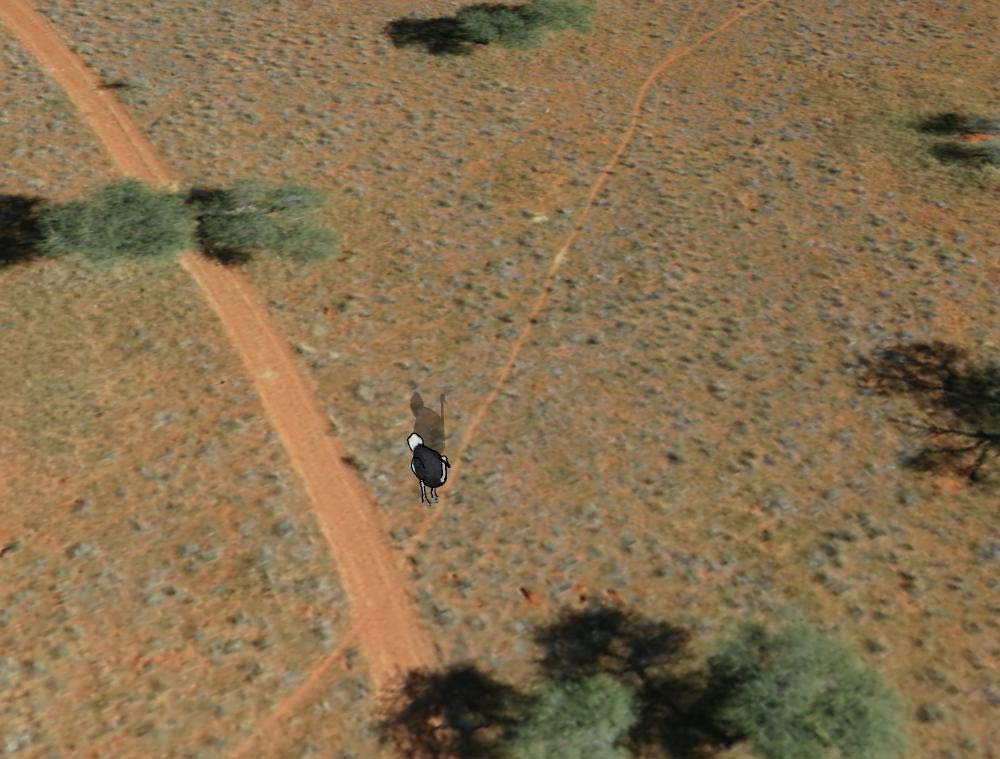ostrich: (404, 431, 456, 511)
